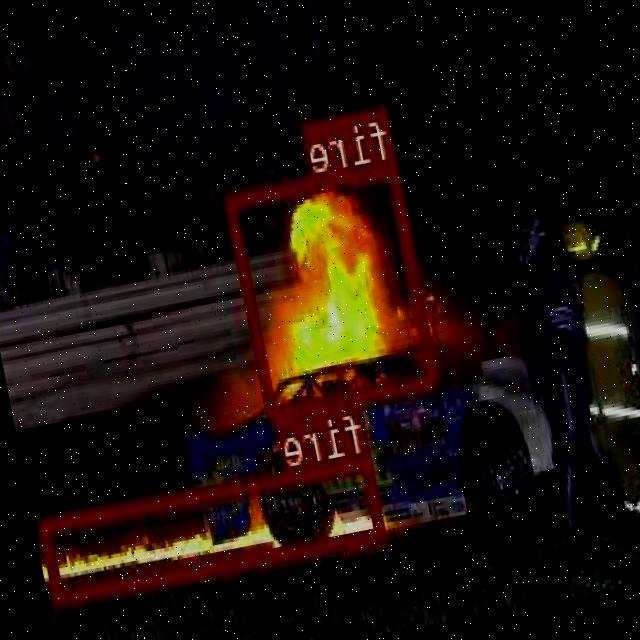fire: (226, 158, 443, 420), (39, 452, 388, 604)
